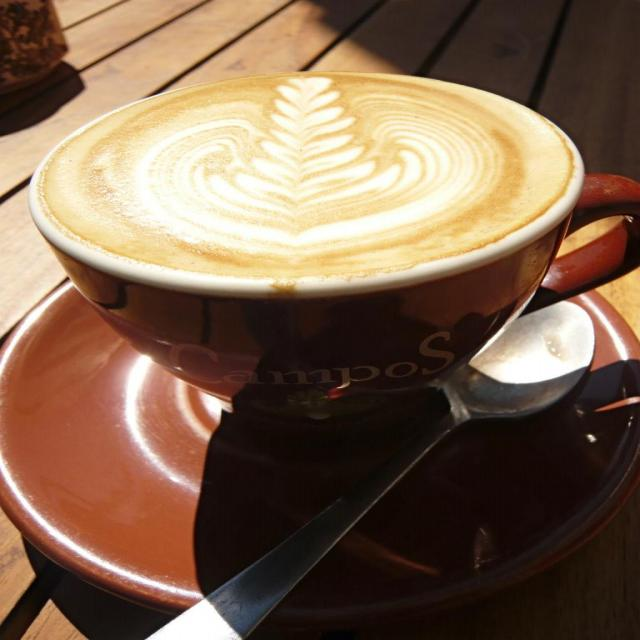latte: (27, 72, 584, 299)
